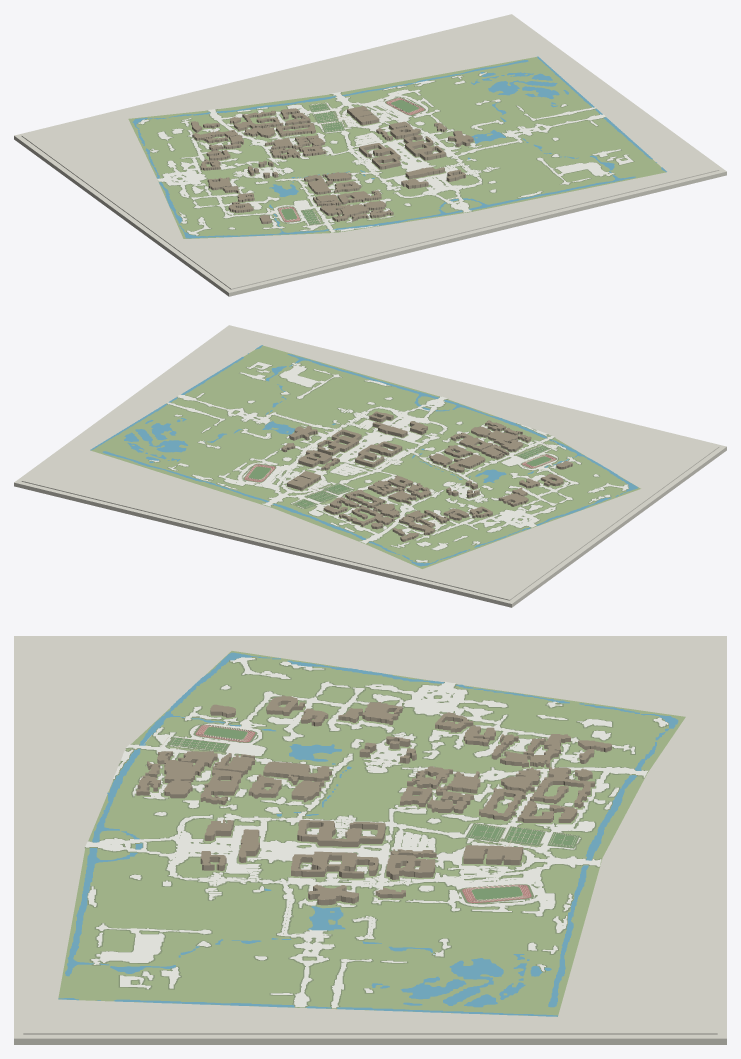
Rendered from nku-jinnan-position-plan.glb.
3 renders of one model, top to bottom at view 1: azimuth 30°, elevation 25°; view 2: azimuth 150°, elevation 25°; view 3: azimuth 270°, elevation 25°, orthographic. The views are drawn at different scales.
Visible parts, largest first — view 1: Nankai_Jinnan_Calibrated_Rough_Model, source-plan-road, source-plan-curb, source-plan-water, 建筑轮廓 41, 建筑轮廓 29, 建筑轮廓 28, 建筑轮廓 03, 建筑轮廓 13; view 2: Nankai_Jinnan_Calibrated_Rough_Model, source-plan-road, source-plan-curb, source-plan-water, 建筑轮廓 41, 建筑轮廓 28, 建筑轮廓 29, 建筑轮廓 13, 建筑轮廓 03; view 3: Nankai_Jinnan_Calibrated_Rough_Model, source-plan-road, source-plan-curb, source-plan-water, 建筑轮廓 29, 建筑轮廓 41, 建筑轮廓 28, 建筑轮廓 13, 建筑轮廓 03, 建筑轮廓 15, 建筑轮廓 33, 建筑轮廓 42 (+7 smaller).
Part boxes in pixels (<box>): Nankai_Jinnan_Calibrated_Rough_Model: <box>14,14,726,296</box>; source-plan-road: <box>138,72,633,235</box>; source-plan-curb: <box>137,72,634,235</box>; source-plan-water: <box>132,56,666,238</box>; 建筑轮廓 41: <box>320,201,386,221</box>; 建筑轮廓 29: <box>403,134,446,160</box>; 建筑轮廓 28: <box>359,143,400,169</box>; 建筑轮廓 03: <box>234,110,283,131</box>; 建筑轮廓 13: <box>265,135,324,149</box>; Nankai_Jinnan_Calibrated_Rough_Model: <box>14,325,726,607</box>; source-plan-road: <box>149,362,628,562</box>; source-plan-curb: <box>148,361,629,562</box>; source-plan-water: <box>90,345,638,566</box>; 建筑轮廓 41: <box>471,426,531,451</box>; 建筑轮廓 28: <box>355,441,402,467</box>; 建筑轮廓 29: <box>317,429,361,455</box>; 建筑轮廓 13: <box>368,480,416,504</box>; 建筑轮廓 03: <box>339,505,394,526</box>; Nankai_Jinnan_Calibrated_Rough_Model: <box>14,636,726,1044</box>; source-plan-road: <box>85,657,668,1008</box>; source-plan-curb: <box>84,657,668,1008</box>; source-plan-water: <box>58,652,678,1016</box>; 建筑轮廓 29: <box>291,851,378,878</box>; 建筑轮廓 41: <box>157,751,217,798</box>; 建筑轮廓 28: <box>297,819,385,846</box>; 建筑轮廓 13: <box>427,771,480,813</box>; 建筑轮廓 03: <box>530,767,594,808</box>; 建筑轮廓 15: <box>463,845,523,865</box>; 建筑轮廓 33: <box>263,761,331,784</box>; 建筑轮廓 42: <box>200,769,242,804</box>.
Size of the model in its own units: 151 by 2.6 by 113.
